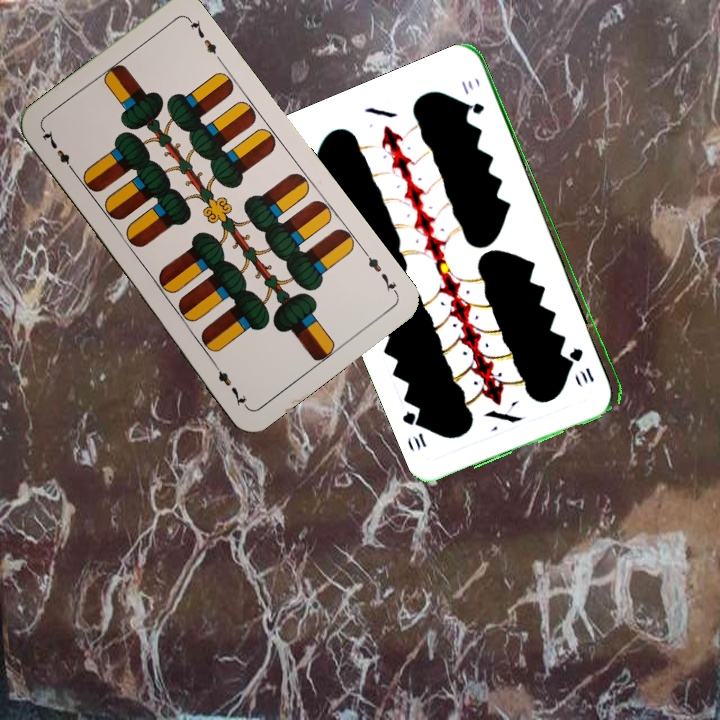E7: (38, 125, 79, 177), (359, 246, 400, 297)
G10: (568, 343, 597, 385)
